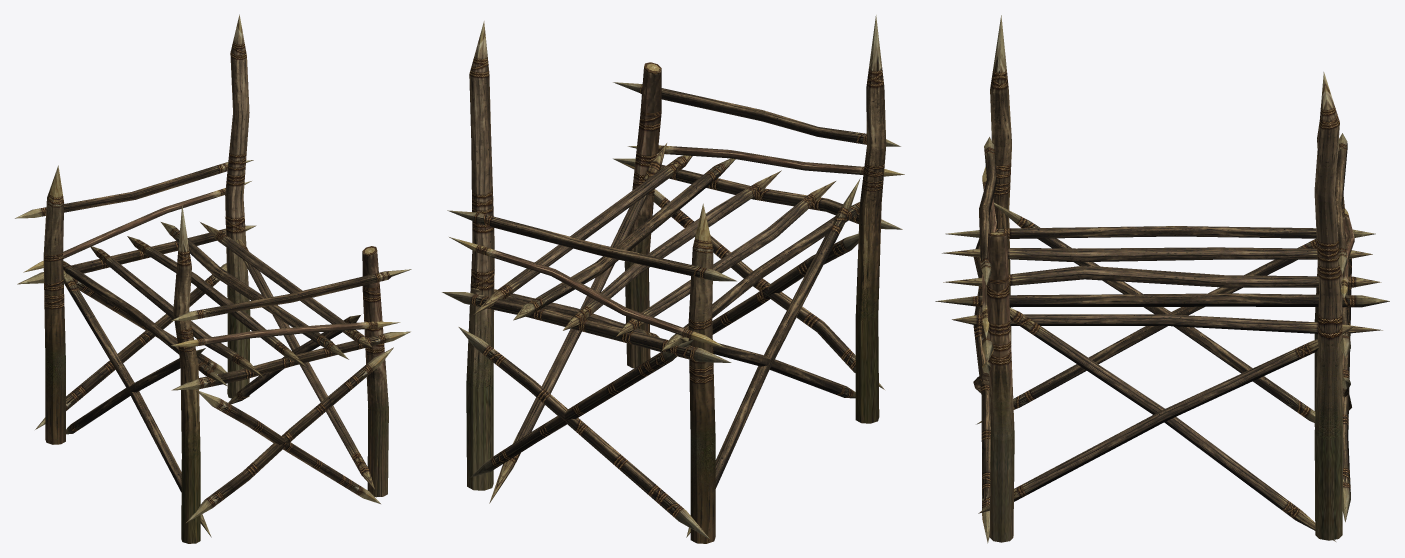
Rendered from gaint_buildb_04.fbx.
3 renders of one model, left to right at view 1: azimuth 30°, elevation 25°; view 2: azimuth 150°, elevation 25°; view 3: azimuth 270°, elevation 25°, orthographic. The views are drawn at different scales.
Parts seen in each view (by area): view 1: Object04, Object05; view 2: Object04, Object05; view 3: Object04, Object05.
Part boxes in pixels (box(x1,y1,x2,y2)): Object04: box(15, 160, 411, 537); Object05: box(43, 14, 388, 543); Object04: box(442, 82, 904, 538); Object05: box(466, 15, 886, 543); Object04: box(935, 133, 1389, 543); Object05: box(986, 15, 1344, 542).
Bounding box in the file's own units: 7.61 × 11.42 × 9.92.
